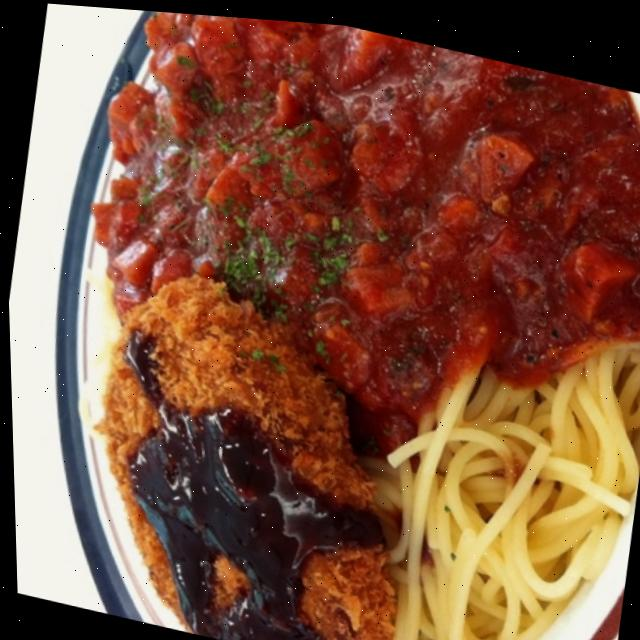炸货点心: (17, 206, 474, 640)
